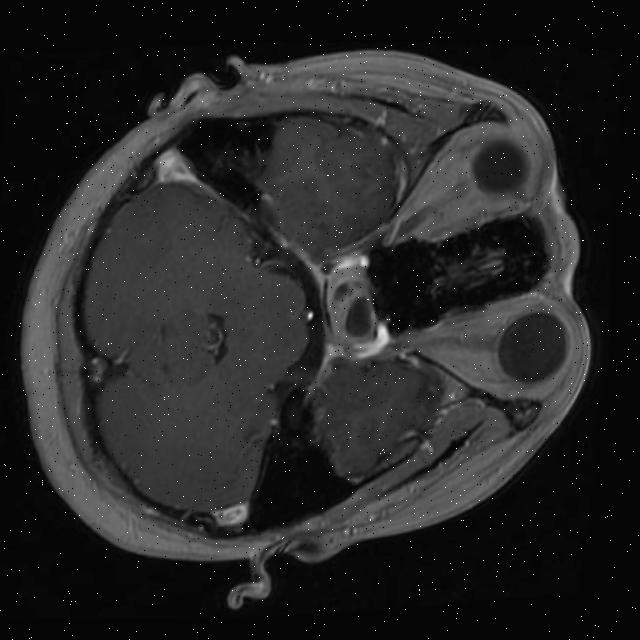Pituitary: (321, 265, 379, 350)
